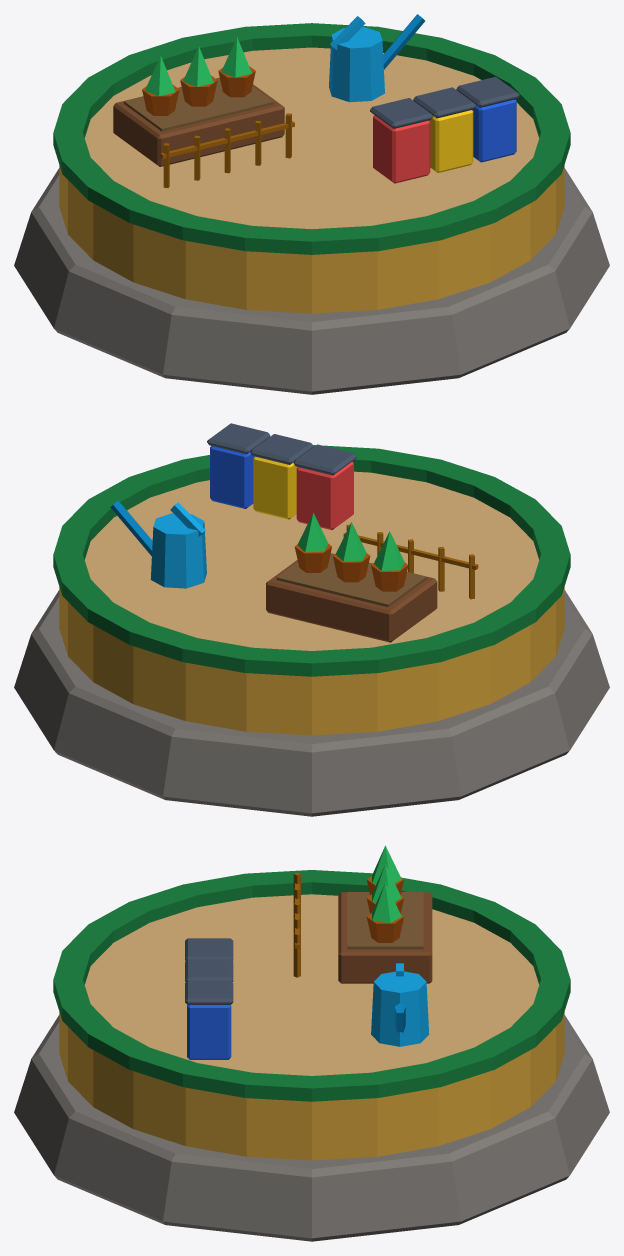
File: stasiun_persemaian_v001.glb
3 views of the same model, one above another, from view 1: azimuth 30°, elevation 25°; view 2: azimuth 150°, elevation 25°; view 3: azimuth 270°, elevation 25° (orthographic).
Visible parts, largest first — view 1: Stasiun_Persemaian; view 2: Stasiun_Persemaian; view 3: Stasiun_Persemaian.
Boxes of the visible parts, box(x1,y1,x2,y2) form: Stasiun_Persemaian: box(14, 14, 609, 394); Stasiun_Persemaian: box(14, 423, 609, 816); Stasiun_Persemaian: box(14, 845, 609, 1241).
Bounding box in the file's own units: 2.03 × 0.813 × 2.03.
